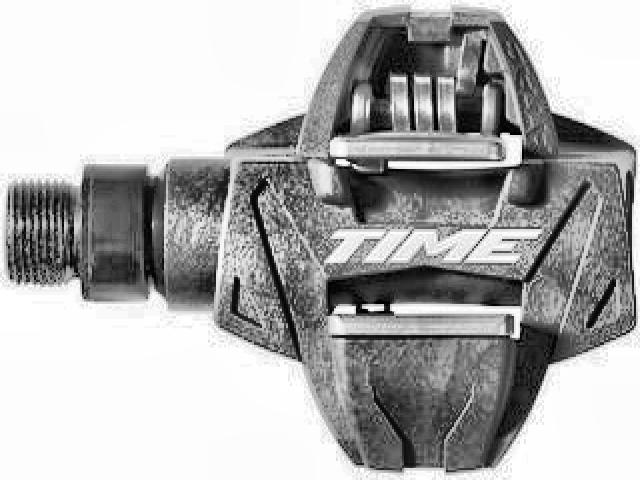pedal: (6, 5, 636, 472)
